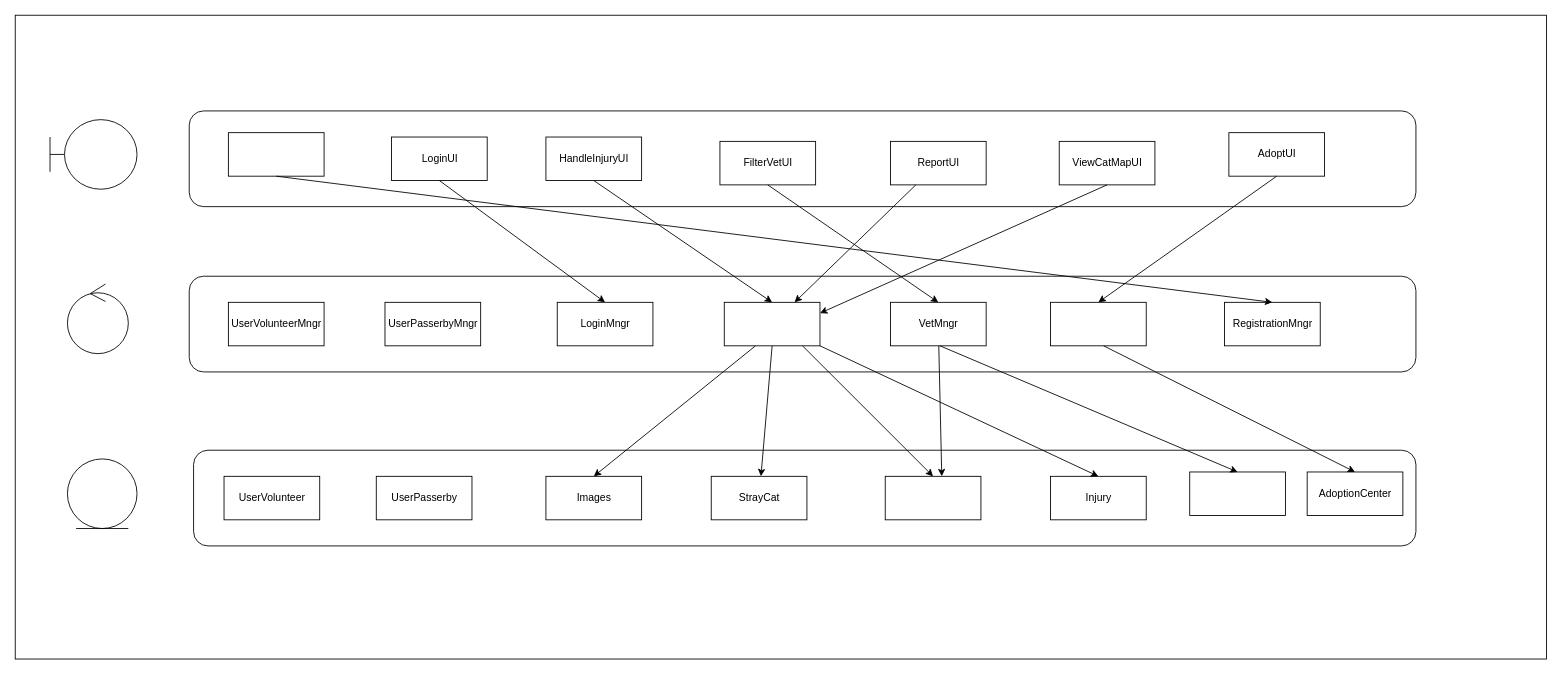
This 1562x674 diagram has some shape labels left out. The centre of each missing label's shape, as x and y in pixels:
AdoptMngr: the point at 1098,323
Boundary Object: the point at 93,154
Control Object: the point at 97,318
Entity Object: the point at 102,493
Location: the point at 932,497
RegistrationUI: the point at 276,154
StrayCatMngr: the point at 771,323
Vet: the point at 1237,493
